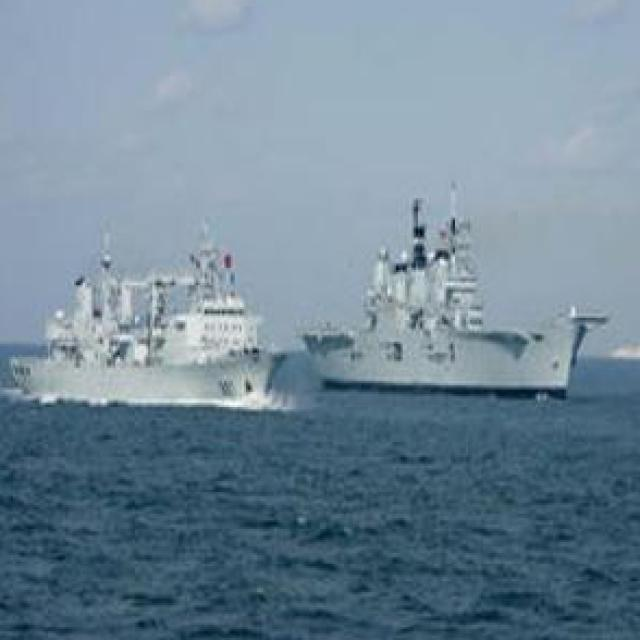navalvessels: (13, 234, 334, 426), (309, 186, 599, 397)
